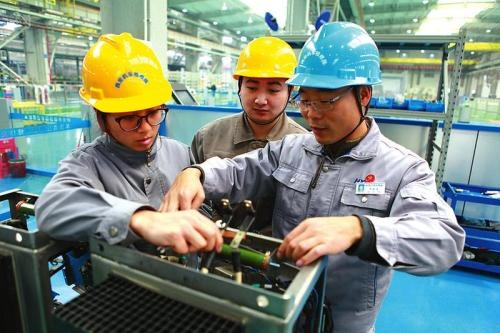blue: (287, 19, 384, 141)
yellow: (84, 31, 170, 151), (232, 34, 295, 122)
